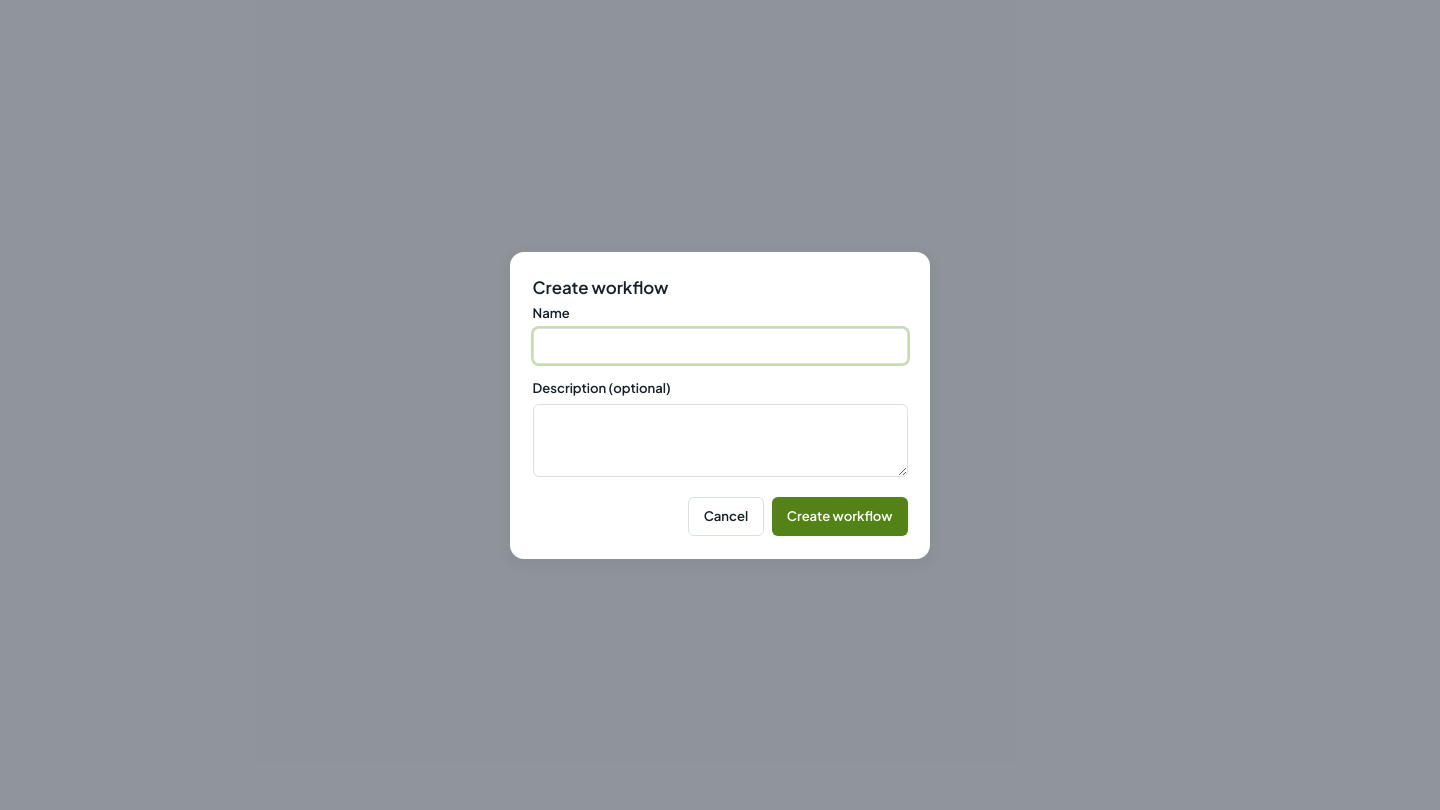
it: CreateWorkflowModal › asks for a name before creating
Click the button "Create workflow" at (840, 516), box [772,496,908,536]
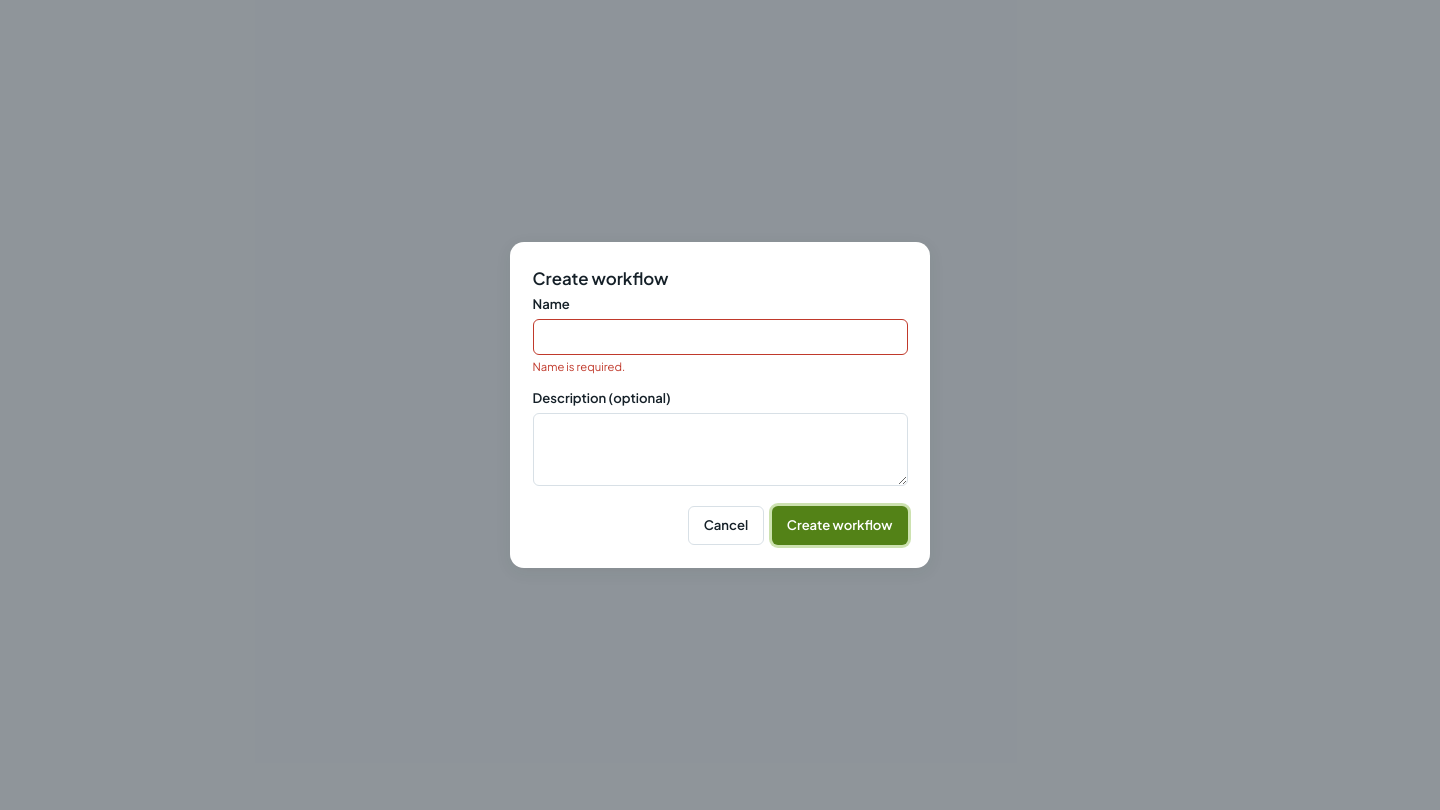
Check: the text "Name is required." is shown, box [532,358,625,372]
